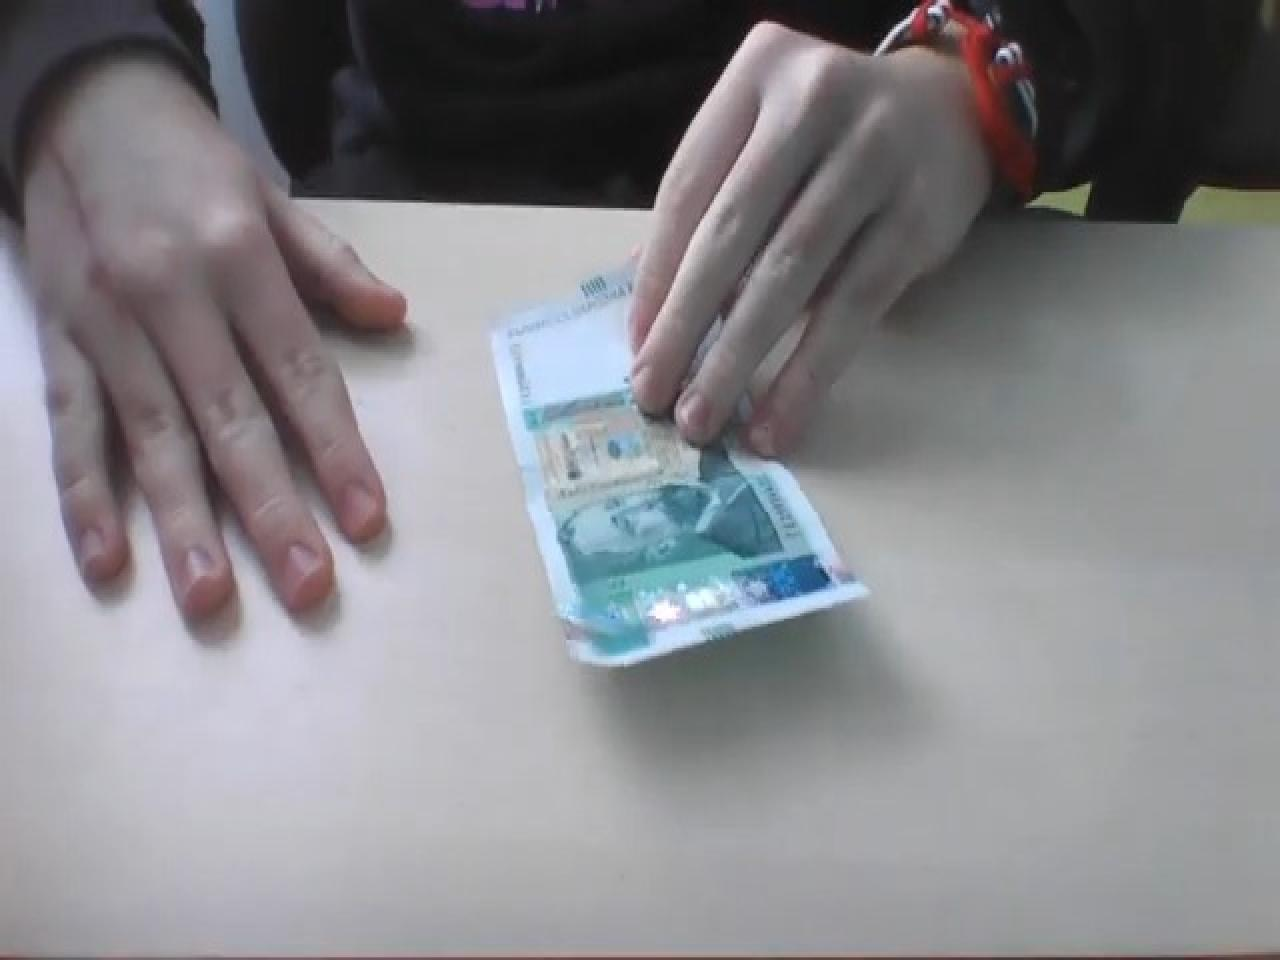100leva: (488, 259, 870, 670)
